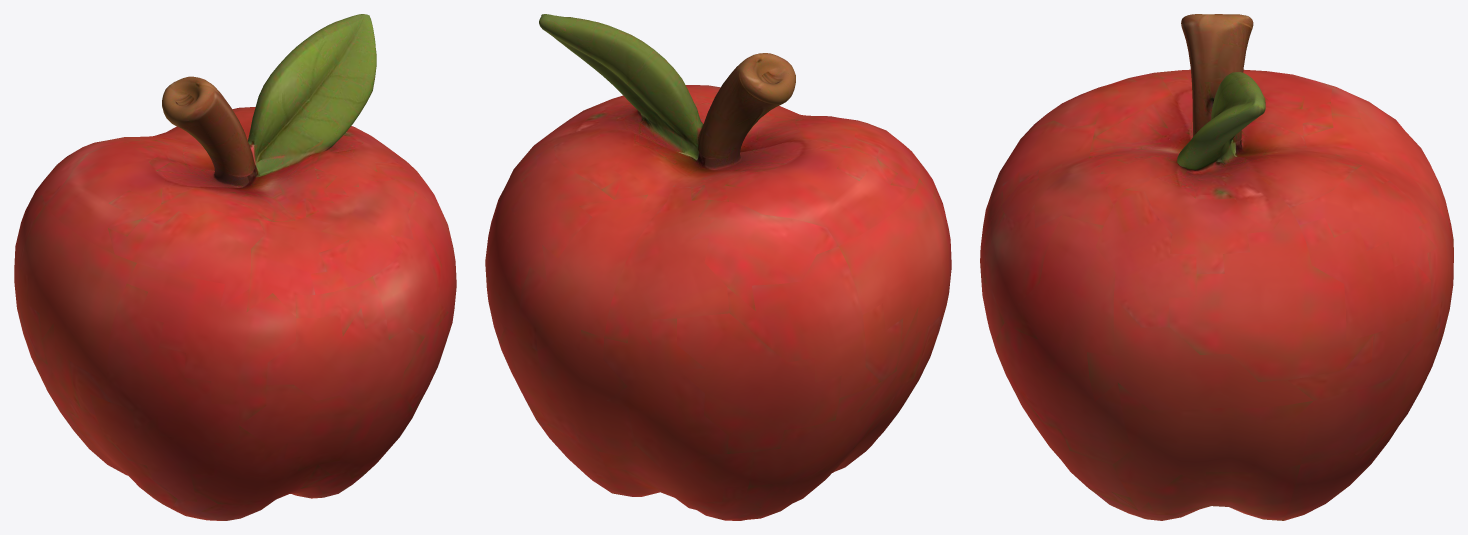
3 views of the same model, side by side, from view 1: azimuth 30°, elevation 25°; view 2: azimuth 150°, elevation 25°; view 3: azimuth 270°, elevation 25° (orthographic). The views are drawn at different scales.
Size of the model in its own units: 1.76 by 1.9 by 1.76.
1 material, 1 textured.
